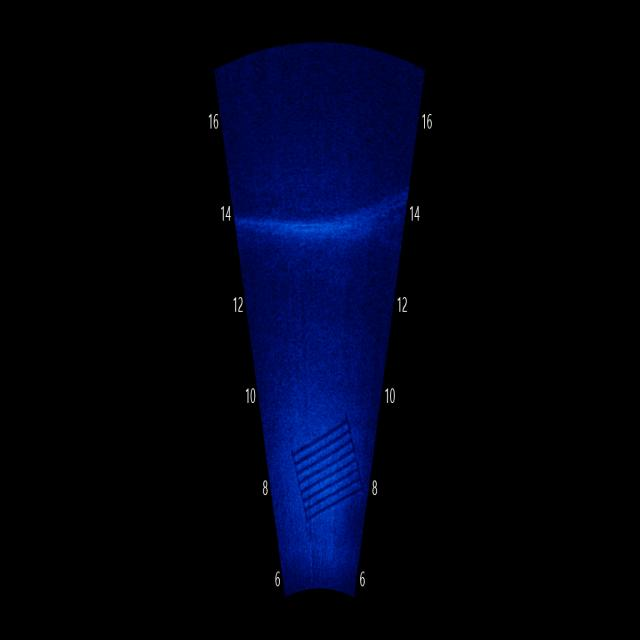square: (283, 407, 365, 532)
